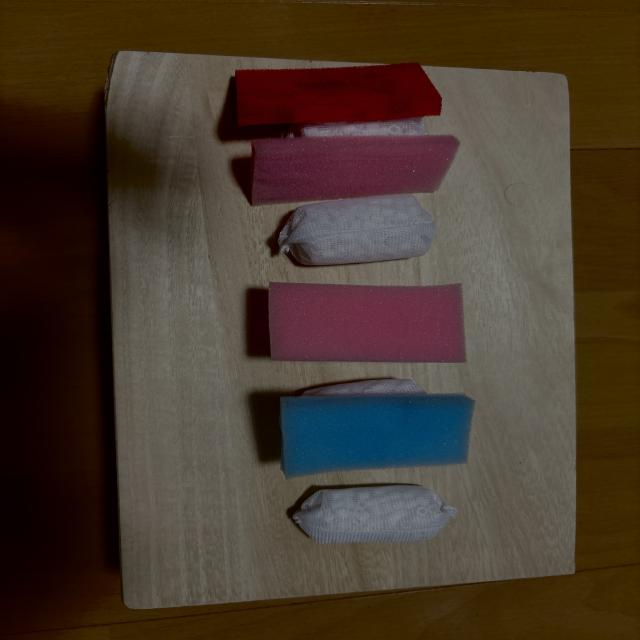NG: (252, 135, 459, 265), (235, 63, 442, 138), (294, 485, 456, 543)
ika: (280, 379, 474, 478)
tai: (269, 282, 466, 362)
